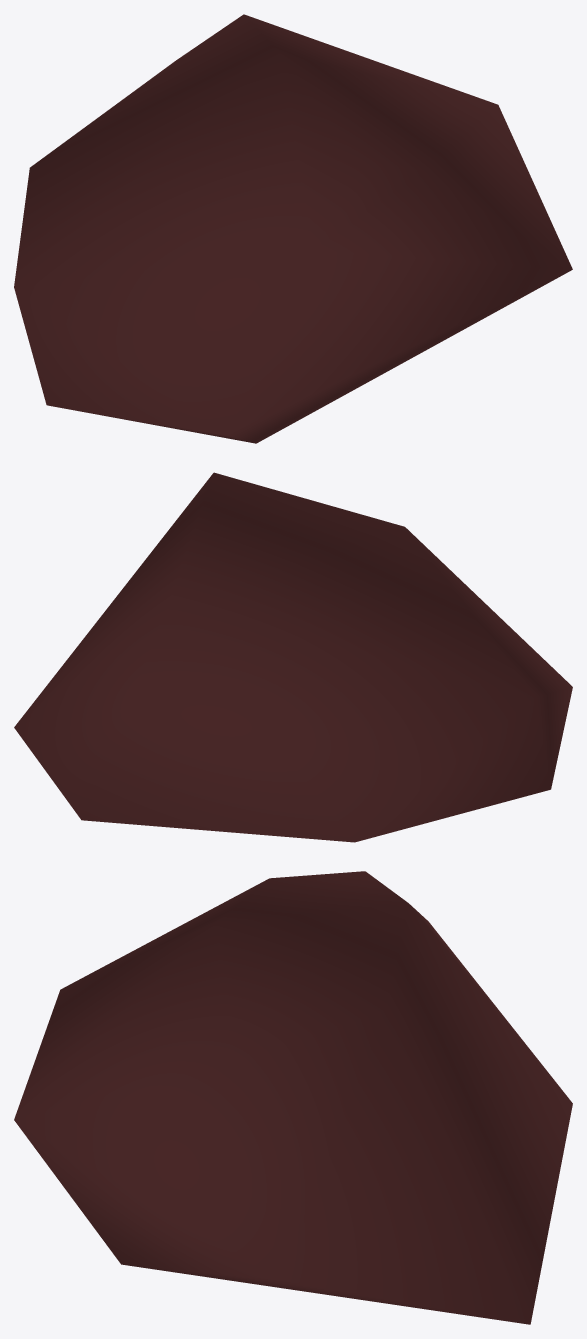
The model's file is debris_rock_a_ink.glb.
3 renders of one model, top to bottom at view 1: azimuth 30°, elevation 25°; view 2: azimuth 150°, elevation 25°; view 3: azimuth 270°, elevation 25°, orthographic. The views are drawn at different scales.
Parts seen in each view (by area): view 1: debris_rock_a_ink; view 2: debris_rock_a_ink; view 3: debris_rock_a_ink.
Part boxes in pixels (x1,y1,x2,y2): debris_rock_a_ink: (14, 14, 572, 443); debris_rock_a_ink: (14, 472, 572, 842); debris_rock_a_ink: (14, 871, 572, 1324).
Bounding box in the file's own units: 1.71 × 1.14 × 1.43.
